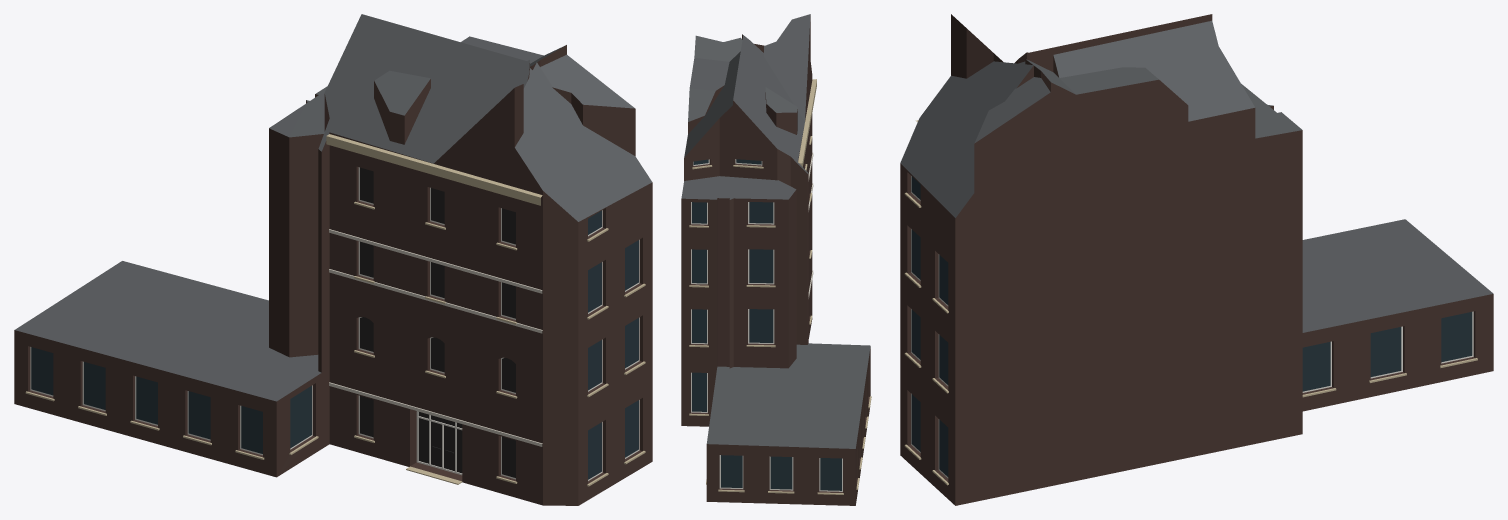
Rendered from recipe-large-van-eeghenstraat-110-158526.glb.
3 renders of one model, left to right at view 1: azimuth 30°, elevation 25°; view 2: azimuth 150°, elevation 25°; view 3: azimuth 270°, elevation 25°, orthographic. The views are drawn at different scales.
Parts seen in each view (by area): view 1: van-eeghenstraat-110-158526; view 2: van-eeghenstraat-110-158526; view 3: van-eeghenstraat-110-158526.
Part boxes in pixels (<box>): van-eeghenstraat-110-158526: <box>14,14,652,505</box>; van-eeghenstraat-110-158526: <box>681,14,871,505</box>; van-eeghenstraat-110-158526: <box>900,14,1493,505</box>.
Size of the model in its own units: 23.03 by 21.5 by 27.42.
